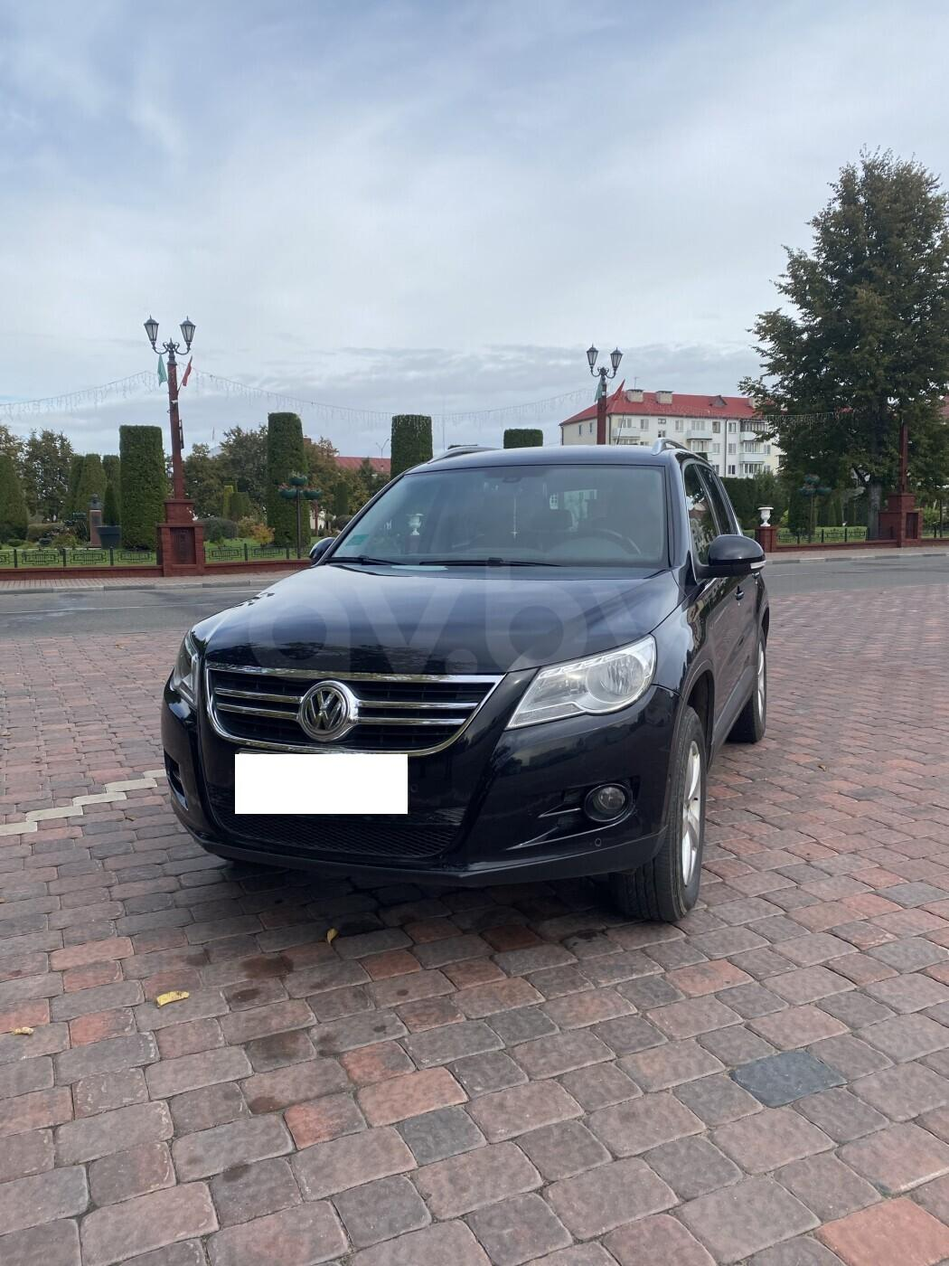Tiguan_2007-2011: (154, 438, 775, 937)
